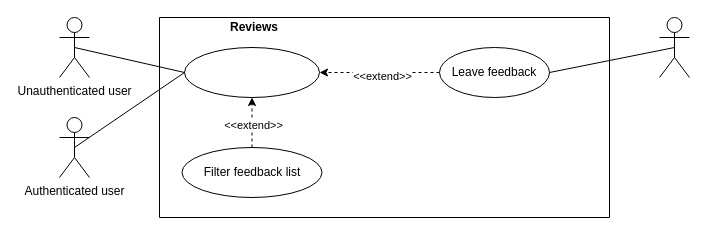
The diagram is 712 pixels wide and 235 high, and some of its shapes have lost their labels. The centre of each missing label's shape, as x and y in pixels:
Student: the point at 674,47
View feedback: the point at 252,72
